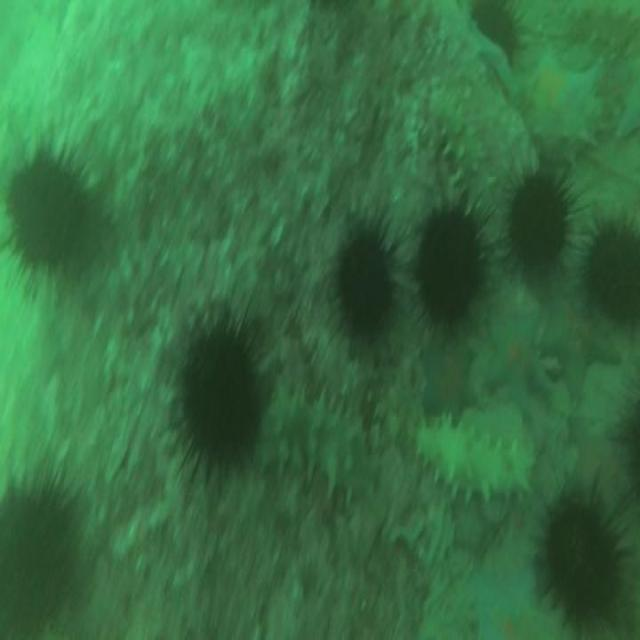echinus: (180, 322, 263, 457), (1, 486, 72, 640), (8, 150, 92, 275), (545, 501, 621, 624), (417, 204, 483, 325), (335, 234, 393, 333), (511, 170, 568, 268), (590, 216, 640, 321), (468, 0, 518, 65)
holothurian: (430, 95, 508, 275), (272, 384, 378, 501), (415, 418, 535, 506)
starfish: (544, 304, 622, 406), (488, 305, 550, 420), (525, 46, 599, 134), (422, 338, 478, 427)
